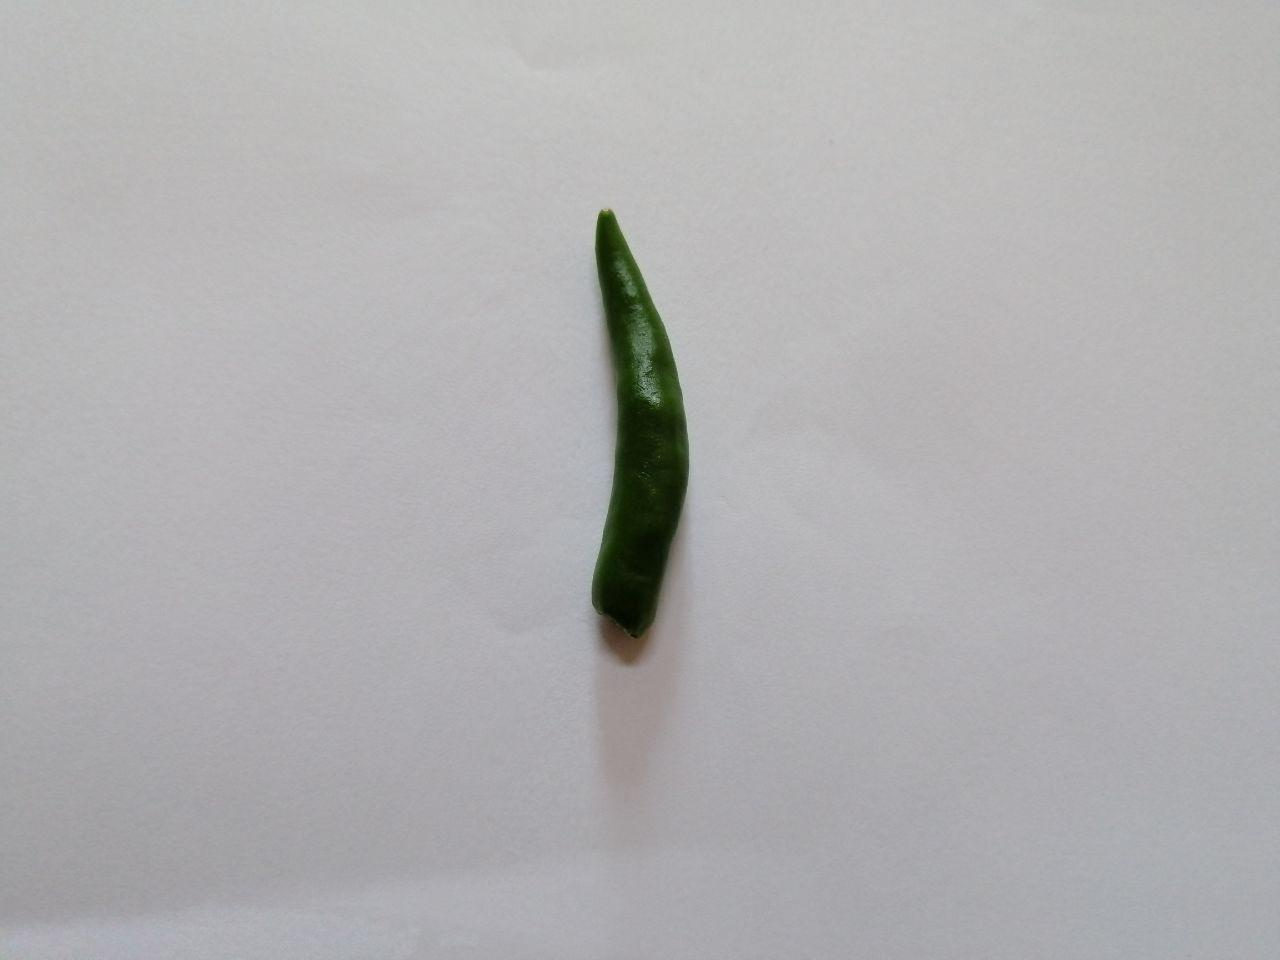lada hijau: (563, 186, 713, 658)
